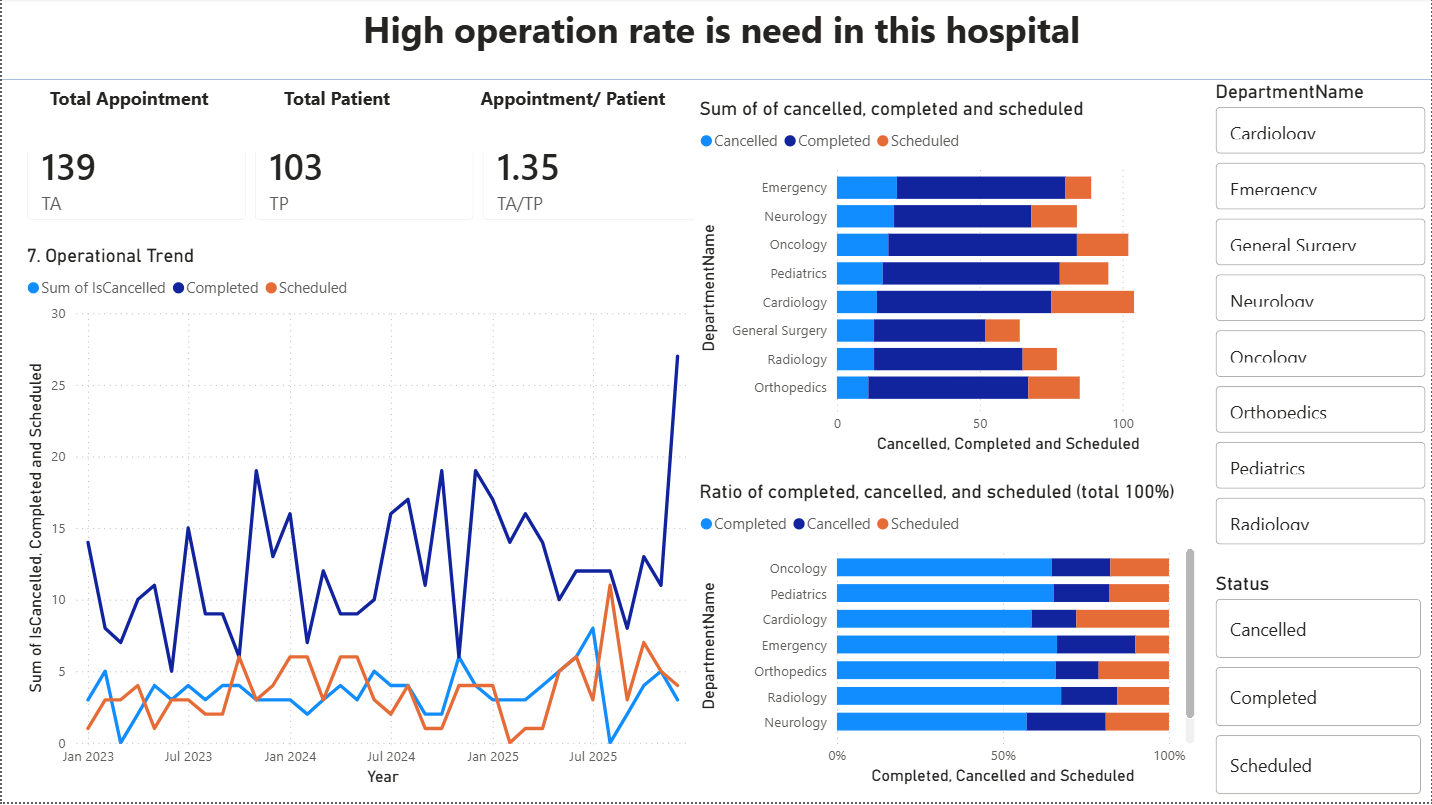

The dashboard page shown, as its layout file describes it:
{"tool":"powerbi","page":{"name":"Operations","canvas":[1280,720],"ordinal":1},"visuals":[{"type":"shape","box":[0,0,1280,73.3],"z":0},{"type":"cardVisual","fields":{"Data":["Sum(doctor_kpi_last6m.TotalAppointments_Last6Months)","Sum(diagnosis_kpi_last6m.TotalPatients_Last6Months)","Sum(diagnosis_kpi_last6m.AvgAppointmentsPerPatient_Last6Months)"]},"box":[5,103.7,639.4,112.9],"z":0,"group":"g1"},{"type":"textbox","box":[5,73.3,216.9,63.8],"z":1000,"group":"g3"},{"type":"lineChart","title":"7. Operational Trend","fields":{"Category":["DBfinal_fact_table0415.YearMonth.Variation.Date Hierarchy.Year","DBfinal_fact_table0415.YearMonth.Variation.Date Hierarchy.Month"],"Y":["Sum(DBfinal_fact_table0415.IsCancelled)","Sum(DBfinal_fact_table0415.IsCompleted)","Sum(DBfinal_fact_table0415.IsScheduled)"]},"box":[16.7,220,615,490],"z":1000},{"type":"group","id":"g1","title":"Group 2","box":[5,73.3,640,141.7],"z":2000},{"type":"textbox","box":[191.5,73.3,216.9,63.8],"z":2000,"group":"g3"},{"type":"textbox","box":[384.8,73.3,252.4,64.3],"z":3000,"group":"g3"},{"type":"group","id":"g2","title":"Group 3","box":[1081.7,73.3,198.3,646.7],"z":3000},{"type":"hundredPercentStackedBarChart","title":"Ratio of completed, cancelled, and scheduled (total 100%)","fields":{"Category":["DBfinal_fact_table0415.DepartmentName"],"Y":["Sum(DBfinal_fact_table0415.IsCompleted)","Sum(DBfinal_fact_table0415.IsCancelled)","Sum(DBfinal_fact_table0415.IsScheduled)"]},"box":[620,431.7,453.3,278.3],"z":4000},{"type":"barChart","title":"Sum of of cancelled, completed and scheduled","fields":{"Category":["DBfinal_fact_table0415.DepartmentName"],"Y":["Sum(DBfinal_fact_table0415.IsCancelled)","Sum(DBfinal_fact_table0415.IsCompleted)","Sum(DBfinal_fact_table0415.IsScheduled)"]},"box":[620,88.3,450,323.3],"z":5000},{"type":"textbox","box":[0,0,1280,73.3],"z":6000},{"type":"advancedSlicerVisual","fields":{"Values":["DBfinal_fact_table0415.DepartmentName"]},"box":[1081.7,73.3,198.6,423.7],"z":8000,"group":"g2"},{"type":"advancedSlicerVisual","fields":{"Values":["DBfinal_fact_table0415.Status"]},"box":[1081.7,513.7,194.3,207],"z":9000,"group":"g2"},{"type":"group","id":"g3","title":"Group 1","box":[5,73.3,632.2,64.3],"z":9001,"group":"g1"}]}

Visuals, with their boxes in screenshot pixels (x1, y1, x2, y2), scaled from the page's 1280x720 canvas onto the 1432x805 screenshot:
shape: {"x1": 0, "y1": 0, "x2": 1431, "y2": 82}
cardVisual - Sum(doctor_kpi_last6m.TotalAppointments_Last6Months) x Sum(diagnosis_kpi_last6m.TotalPatients_Last6Months): {"x1": 6, "y1": 116, "x2": 721, "y2": 242}
textbox: {"x1": 6, "y1": 82, "x2": 248, "y2": 153}
"7. Operational Trend" lineChart: {"x1": 19, "y1": 246, "x2": 707, "y2": 794}
"Group 2" group: {"x1": 6, "y1": 82, "x2": 722, "y2": 240}
textbox: {"x1": 214, "y1": 82, "x2": 457, "y2": 153}
textbox: {"x1": 430, "y1": 82, "x2": 713, "y2": 154}
"Group 3" group: {"x1": 1210, "y1": 82, "x2": 1431, "y2": 804}
"Ratio of completed, cancelled, and scheduled (total 100%)" hundredPercentStackedBarChart: {"x1": 694, "y1": 483, "x2": 1201, "y2": 794}
"Sum of of cancelled, completed and scheduled" barChart: {"x1": 694, "y1": 99, "x2": 1197, "y2": 460}
textbox: {"x1": 0, "y1": 0, "x2": 1431, "y2": 82}
advancedSlicerVisual - DBfinal_fact_table0415.DepartmentName: {"x1": 1210, "y1": 82, "x2": 1431, "y2": 556}
advancedSlicerVisual - DBfinal_fact_table0415.Status: {"x1": 1210, "y1": 574, "x2": 1428, "y2": 804}
"Group 1" group: {"x1": 6, "y1": 82, "x2": 713, "y2": 154}
